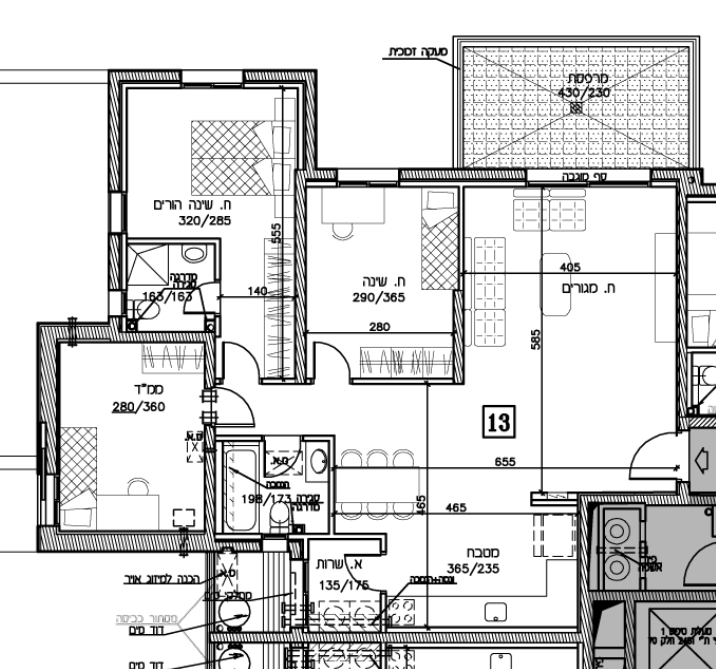wall: (208, 631, 586, 643), (36, 528, 214, 553), (676, 192, 690, 433), (398, 166, 526, 183), (296, 169, 306, 384), (109, 68, 123, 191), (303, 70, 318, 167), (243, 68, 317, 84), (108, 70, 176, 84), (453, 290, 463, 385), (107, 231, 123, 290)
